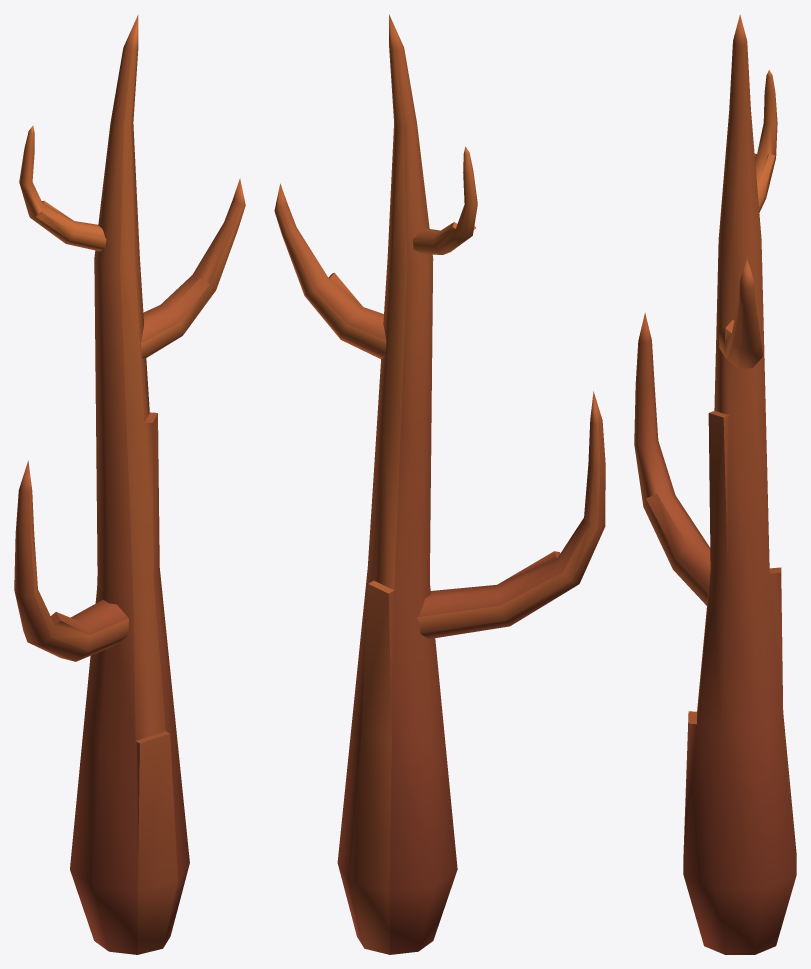
Rendered from Tree_Bare_2_A_Color1.glb.
3 views of the same model, side by side, from view 1: azimuth 30°, elevation 25°; view 2: azimuth 150°, elevation 25°; view 3: azimuth 270°, elevation 25° (orthographic).
Visible parts, largest first — view 1: Tree_Bare_2_A_Color1; view 2: Tree_Bare_2_A_Color1; view 3: Tree_Bare_2_A_Color1.
Boxes of the visible parts, bbox=[...] form: Tree_Bare_2_A_Color1: bbox=[14, 15, 245, 954]; Tree_Bare_2_A_Color1: bbox=[274, 14, 605, 954]; Tree_Bare_2_A_Color1: bbox=[634, 14, 796, 954].
Bounding box in the file's own units: 1.2 × 3.84 × 0.6.
Materials: 1 (1 with a texture image).
